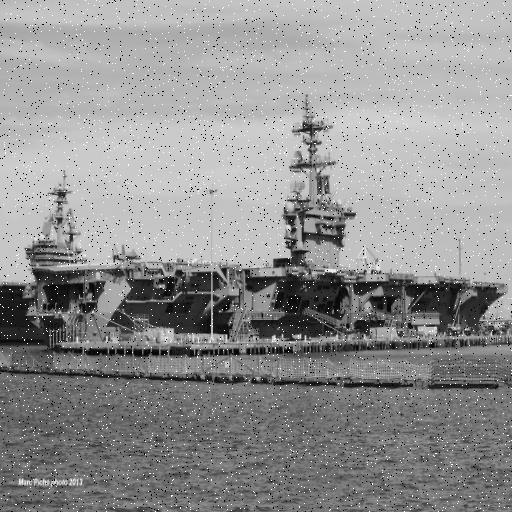Portanaves: (23, 105, 512, 359)
